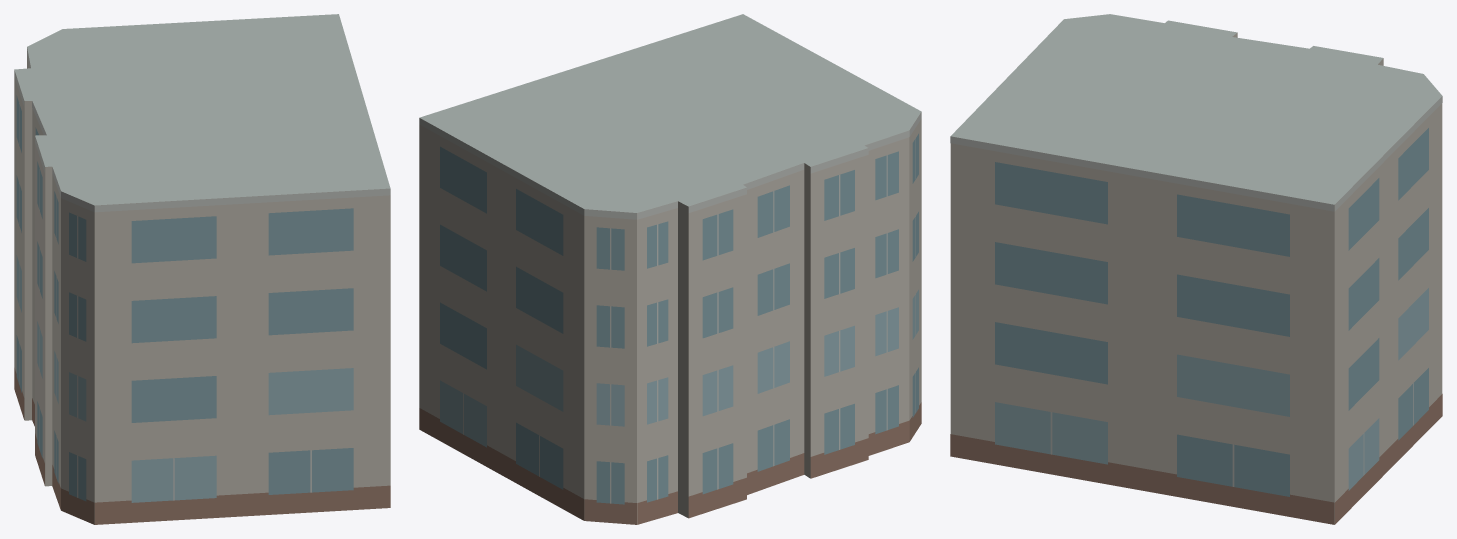
The model's file is survey-upis-32528283.glb.
3 views of the same model, side by side, from view 1: azimuth 30°, elevation 25°; view 2: azimuth 150°, elevation 25°; view 3: azimuth 270°, elevation 25° (orthographic). The views are drawn at different scales.
Parts seen in each view (by area): view 1: survey-upis-32528283.tmp; view 2: survey-upis-32528283.tmp; view 3: survey-upis-32528283.tmp.
Part boxes in pixels (x1,y1,x2,y2): survey-upis-32528283.tmp: (14,14,390,524); survey-upis-32528283.tmp: (419,14,921,524); survey-upis-32528283.tmp: (950,14,1442,524).
Bounding box in the file's own units: 14.45 × 11.3 × 15.75.
